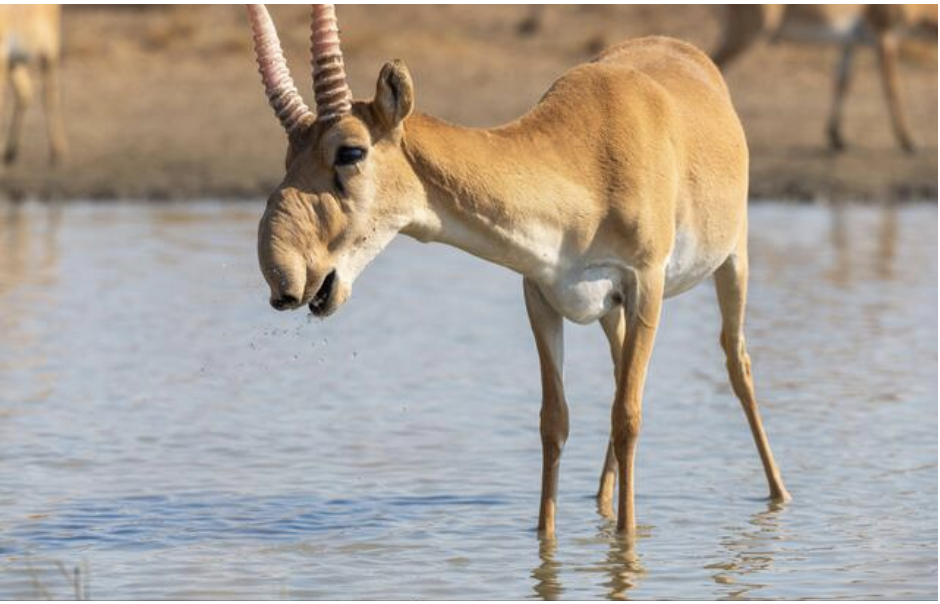saiga: (244, 5, 811, 546)
